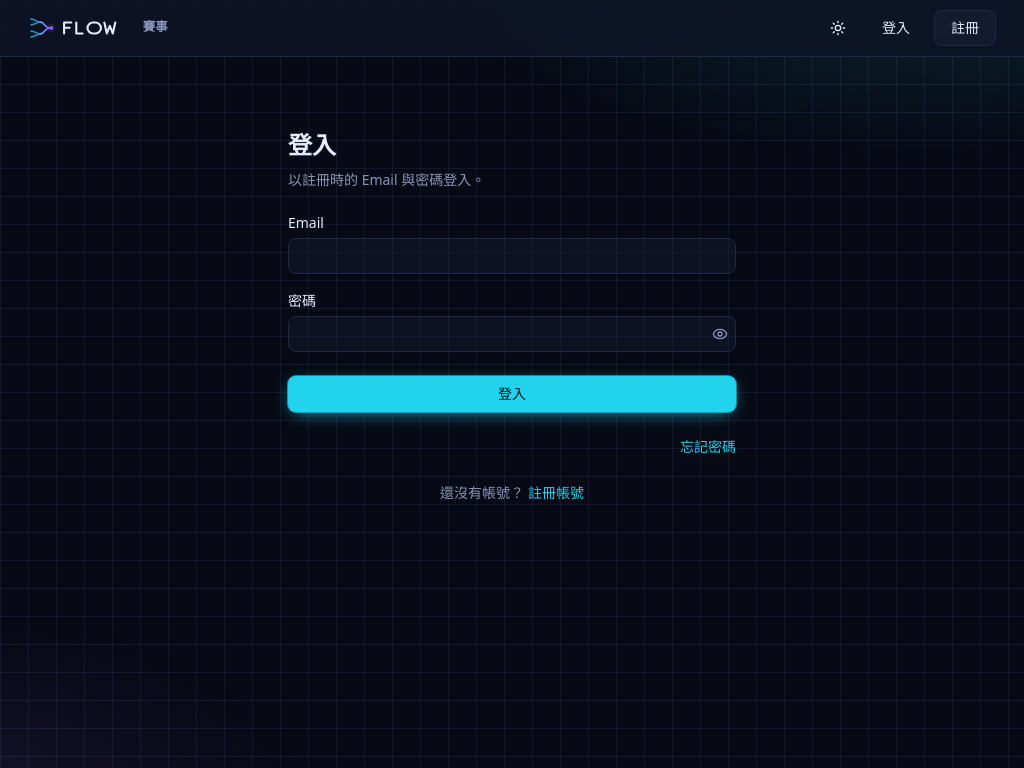
需要登入的頁面 › 未登入開啟 /account?x=1：導向 S6 並帶 redirect，登入後回到 /account?x=1
Expected: the heading "登入" is shown, [288,128,336,161]
Type "an@example.com" into the field labelled "Email" at (512, 256), box [288,238,736,274]
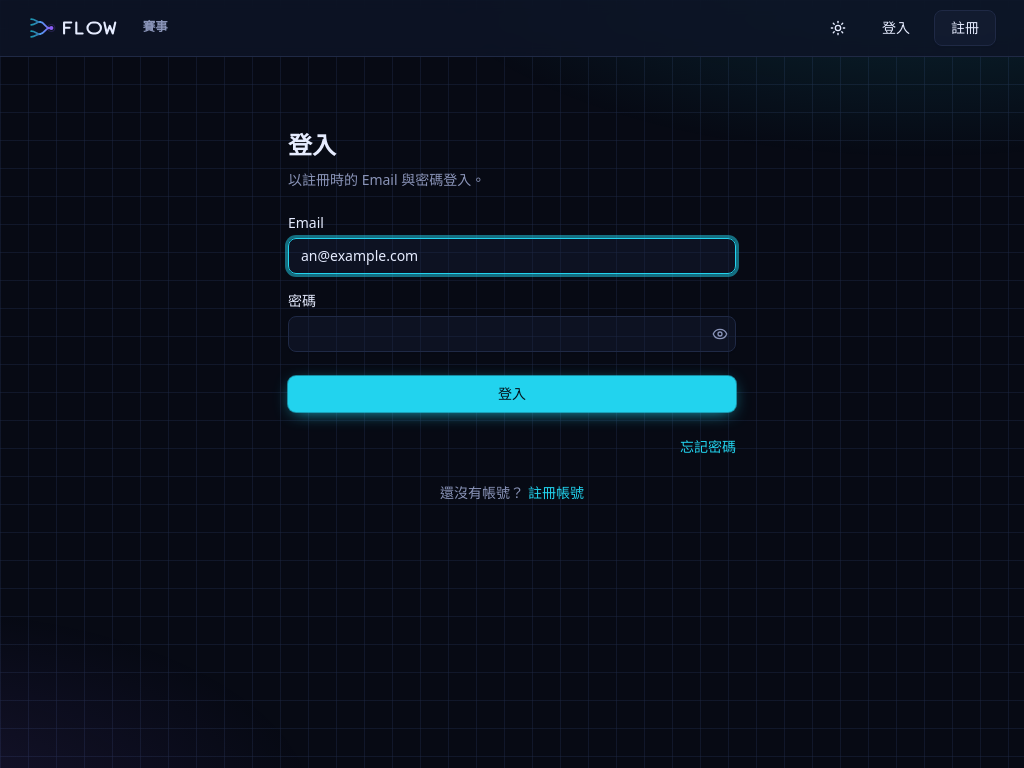
Type "12345678" into the password field labelled "密碼" at (512, 334), box [288,316,736,352]
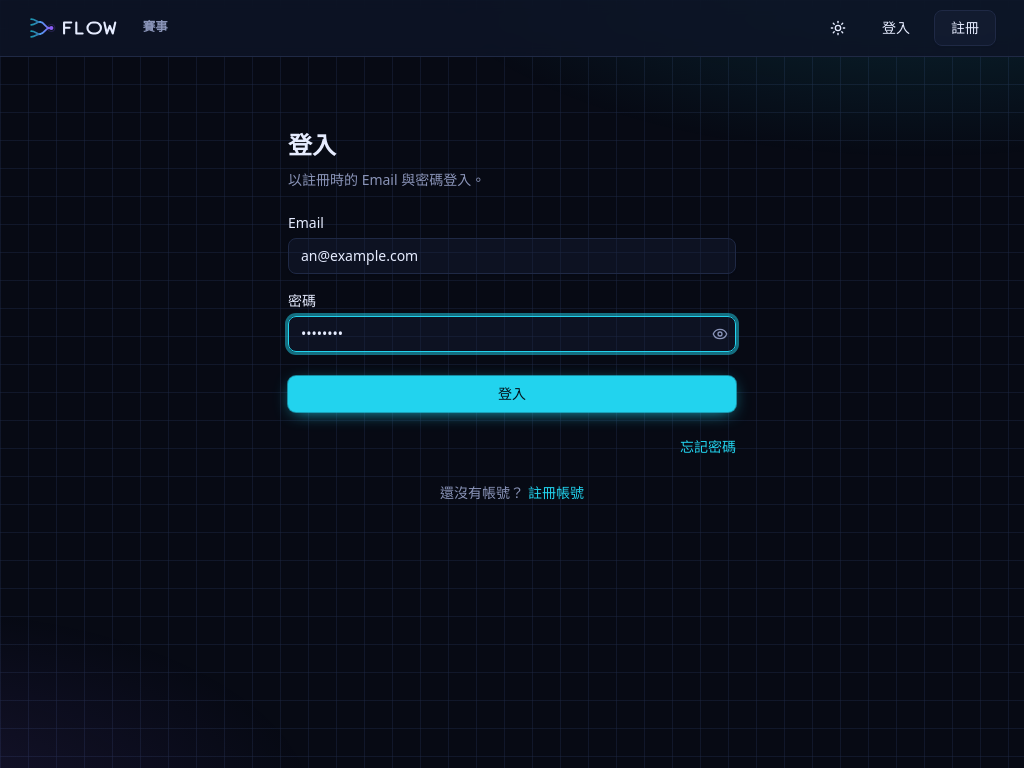
Click the button "登入" at (512, 394), box [288,376,736,412]
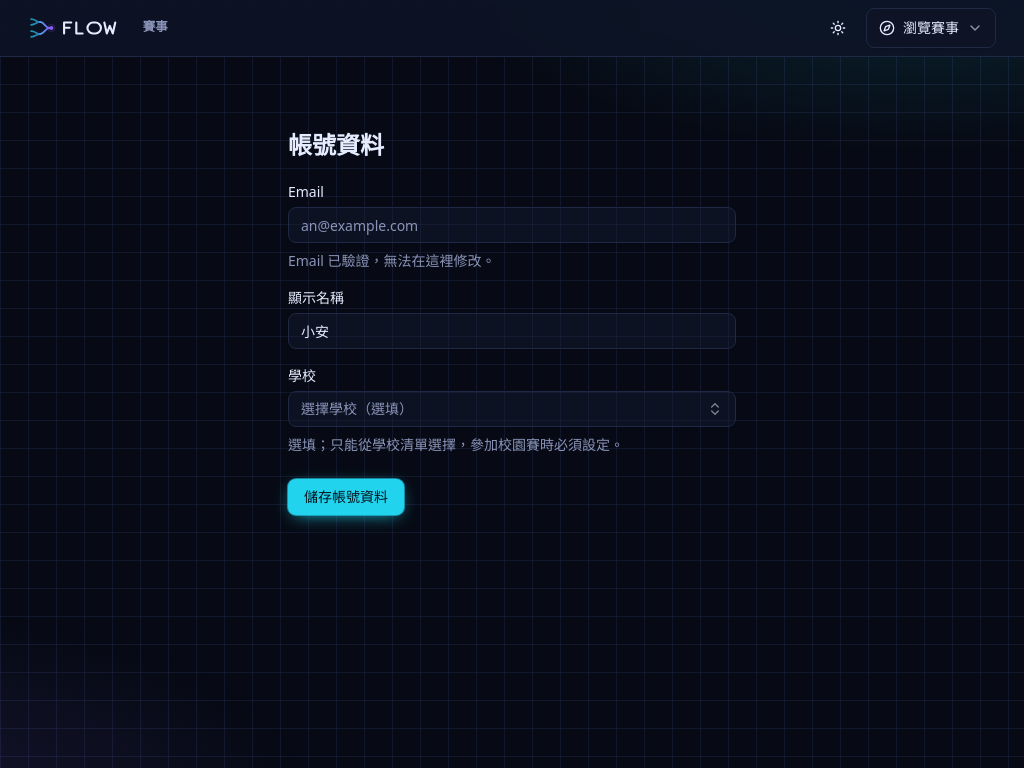
Expected: the heading "帳號資料" is shown, [288,128,384,161]
